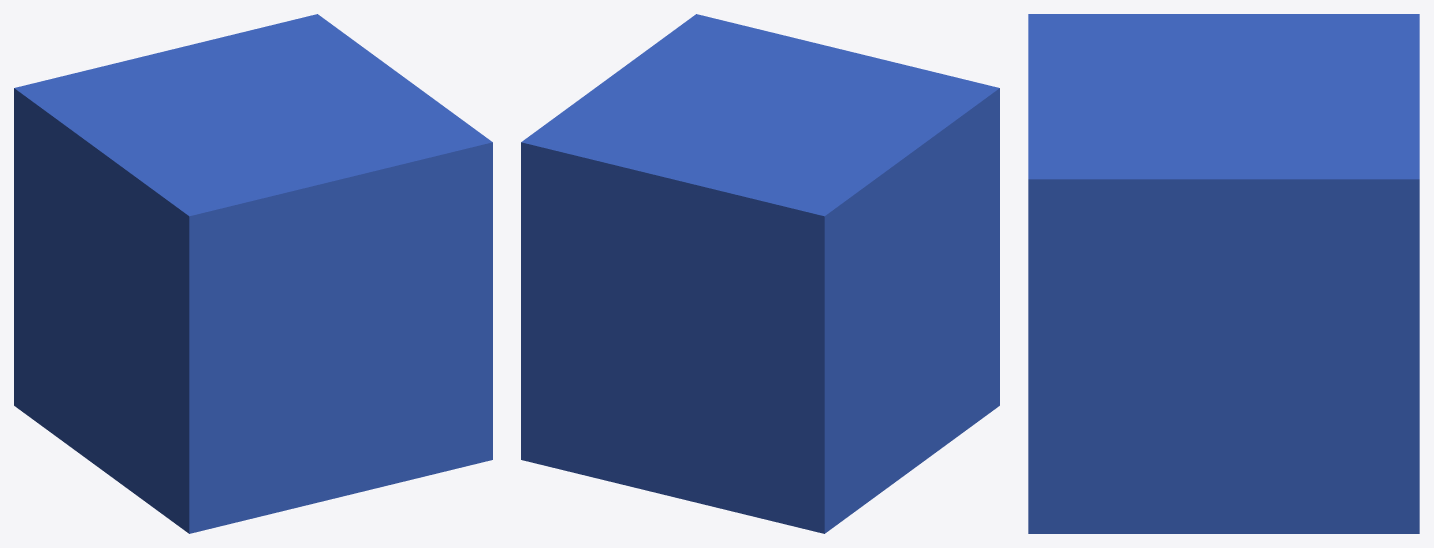
The model's file is ConstructionBox_C.fbx.
The picture shows the model from 3 angles, left to right: view 1: azimuth 30°, elevation 25°; view 2: azimuth 150°, elevation 25°; view 3: azimuth 270°, elevation 25°; orthographic projection. The views are drawn at different scales.
Visible parts, largest first — view 1: ConstructionBox_C; view 2: ConstructionBox_C; view 3: ConstructionBox_C.
Part boxes in pixels (x1,y1,x2,y2): ConstructionBox_C: [14, 14, 492, 533]; ConstructionBox_C: [521, 14, 999, 533]; ConstructionBox_C: [1028, 14, 1419, 533].
Bounding box in the file's own units: 900 × 900 × 900.
